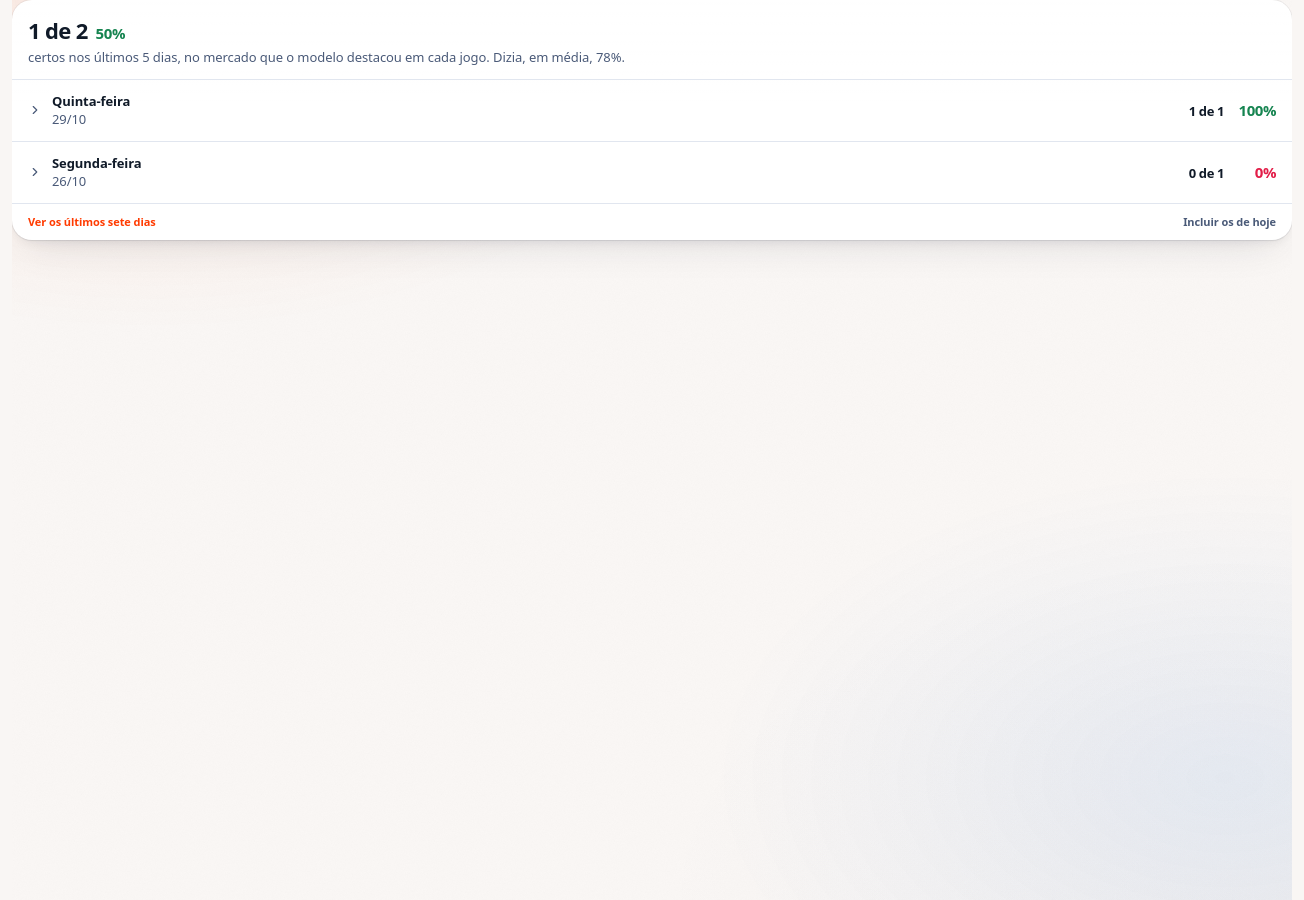
Test: how the board did › abre um dia nos jogos dele, e só nos dele
Expected: the text "nos últimos 5 dias" is shown, [69, 48, 177, 66]
Expected: the text "Benfica" is not shown
What coordinates should you click on to do the following:
click the button "quinta-feira 29/10 1 de 1 100%"
I would click on:
 (96, 101)
Its box is [12, 80, 1292, 140].
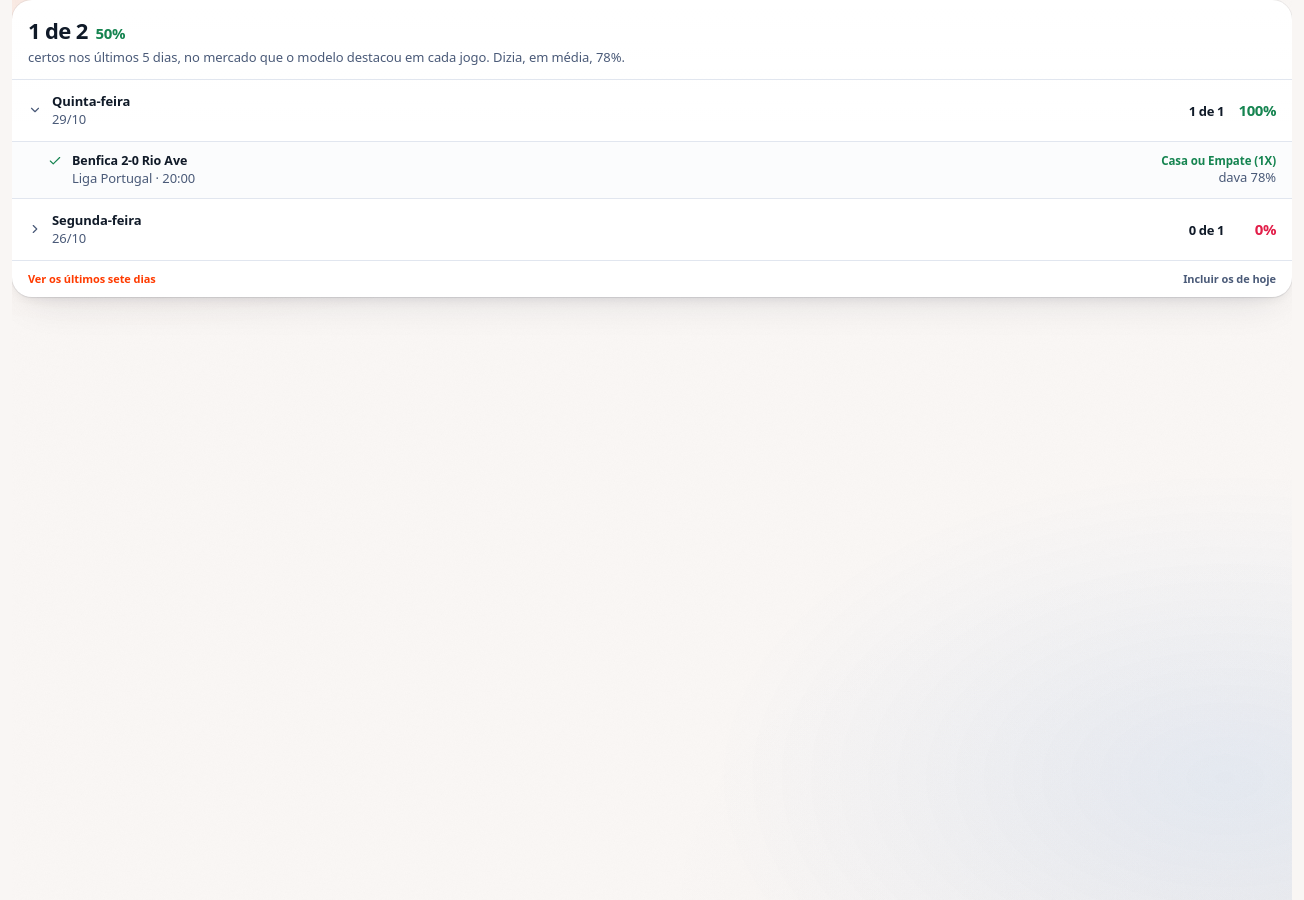
Expected: the text "Benfica 2-0 Rio Ave" is shown, [72, 152, 187, 169]
